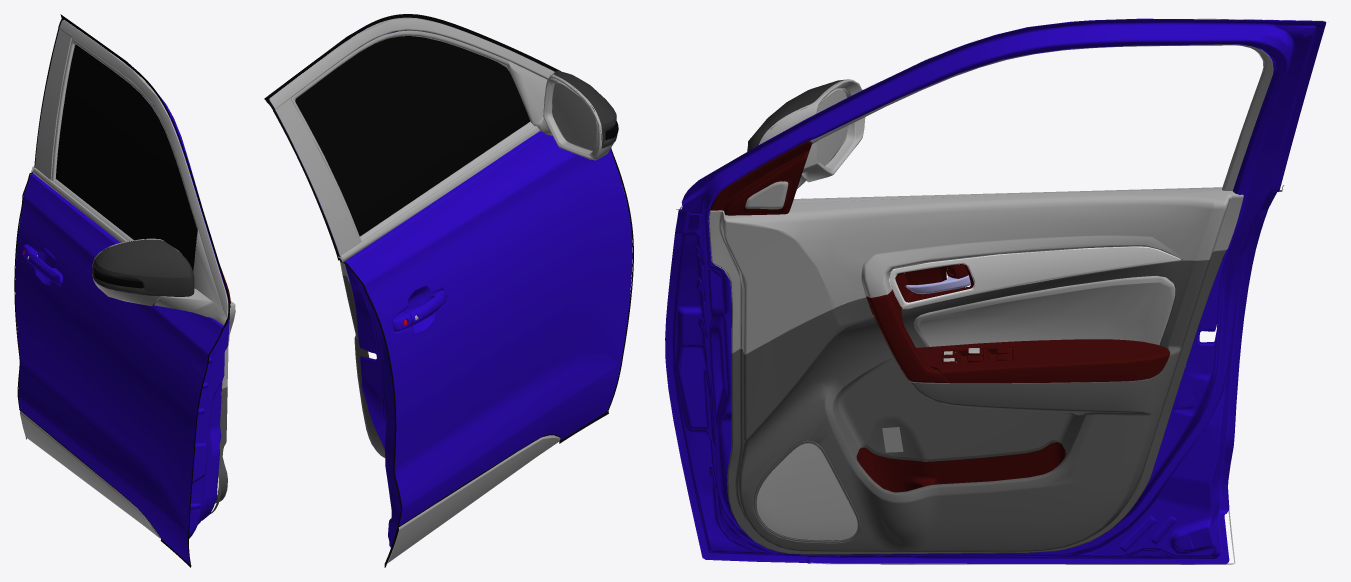
The model's file is TOYOTA_URBAN_CRUISER_PRE_EX_FR_DOORS_MESH.glb.
3 views of the same model, side by side, from view 1: azimuth 30°, elevation 25°; view 2: azimuth 150°, elevation 25°; view 3: azimuth 270°, elevation 25° (orthographic). The views are drawn at different scales.
Parts seen in each view (by area): view 1: TOYOTA_URBAN_CRUISER_PRE_EX_FR_DOORS_MESH; view 2: TOYOTA_URBAN_CRUISER_PRE_EX_FR_DOORS_MESH; view 3: TOYOTA_URBAN_CRUISER_PRE_EX_FR_DOORS_MESH.
Boxes of the visible parts, x1,y1,x2,y2 form: TOYOTA_URBAN_CRUISER_PRE_EX_FR_DOORS_MESH: [14, 14, 235, 567]; TOYOTA_URBAN_CRUISER_PRE_EX_FR_DOORS_MESH: [264, 14, 633, 567]; TOYOTA_URBAN_CRUISER_PRE_EX_FR_DOORS_MESH: [665, 18, 1326, 564].
Bounding box in the file's own units: 0.4215 × 1.18 × 1.19.
